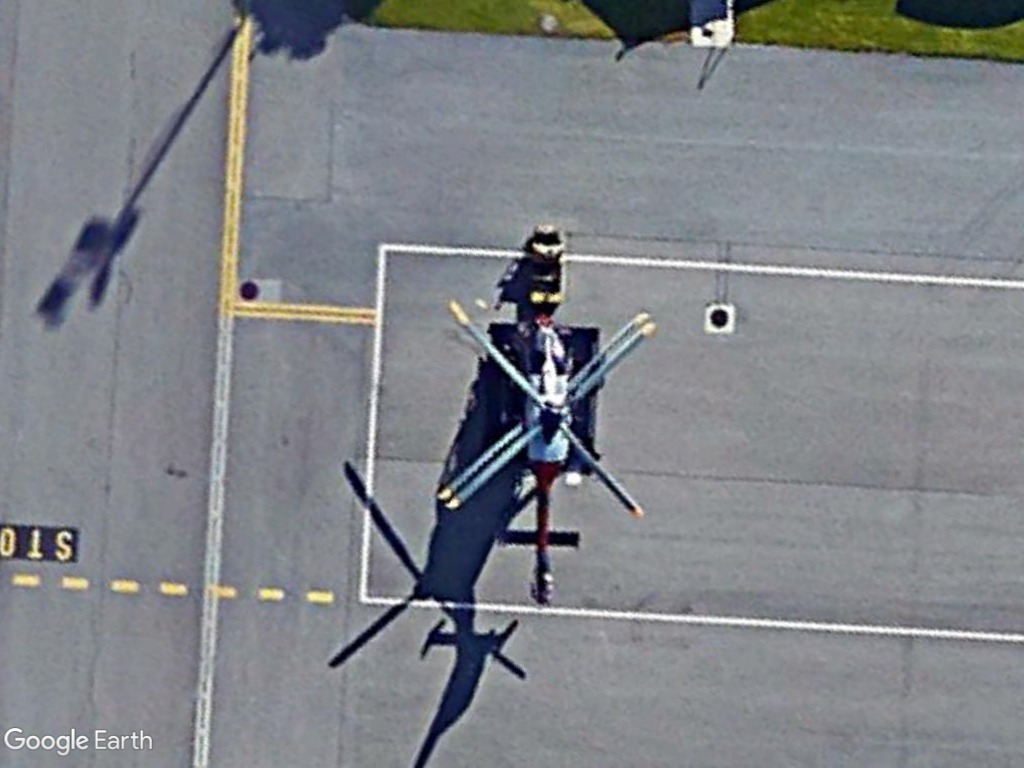helicopter: (430, 288, 658, 608)
